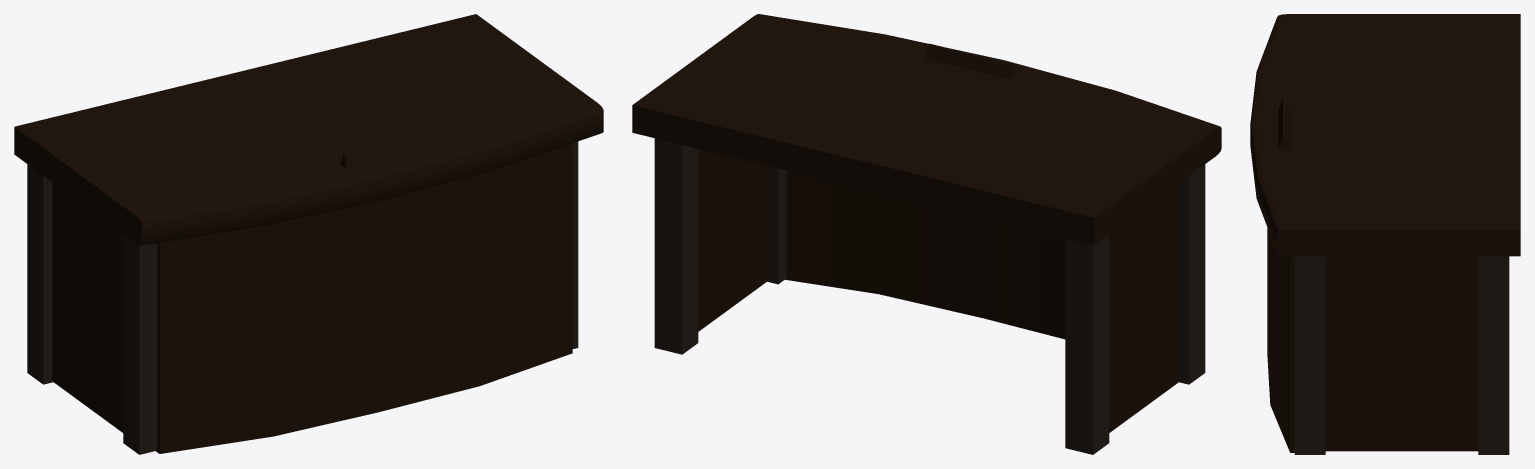
File: desk(boss).FBX
3 renders of one model, left to right at view 1: azimuth 30°, elevation 25°; view 2: azimuth 150°, elevation 25°; view 3: azimuth 270°, elevation 25°, orthographic. The views are drawn at different scales.
Visible parts, largest first — view 1: Box001; view 2: Box001; view 3: Box001.
Boxes of the visible parts, x1=… form: Box001: x1=14, y1=14, x2=603, y2=454; Box001: x1=632, y1=14, x2=1221, y2=454; Box001: x1=1250, y1=14, x2=1520, y2=454.
Bounding box in the file's own units: 194 × 103 × 103.
